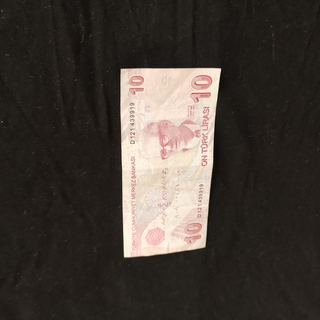10TLBack: (119, 66, 222, 259)
